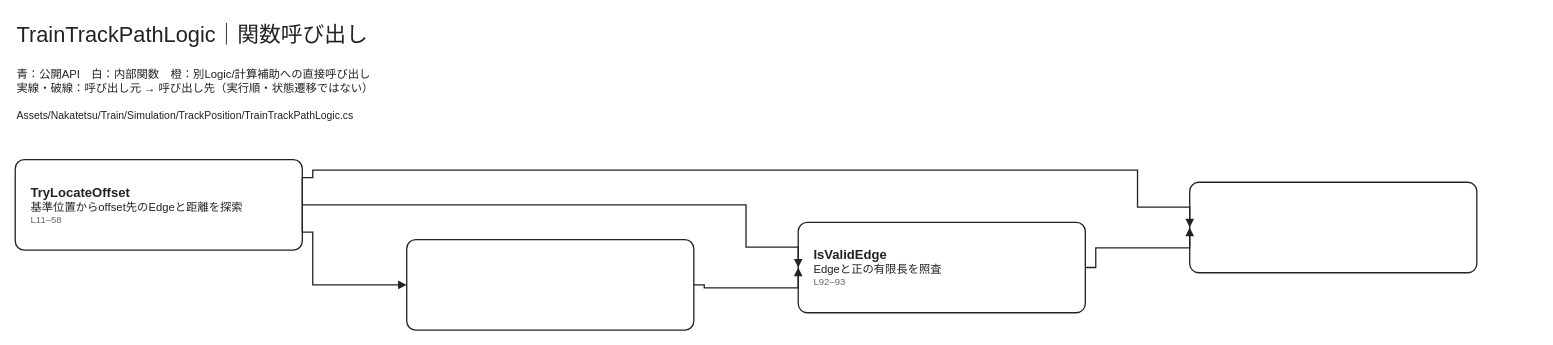
This 1553x345 diagram has some shape labels left out. The shapes that lost their labels are listed below. From the top down, each one's box as (x1, y1, x2, y2) in pixels, then its label:
(1189, 181, 1477, 273): Is Finite NaN / Infinityを除外 L95–95
(406, 239, 694, 330): Try Get Adjacent 接続resolverから隣接Edge・進入方向を取得 L60–90
